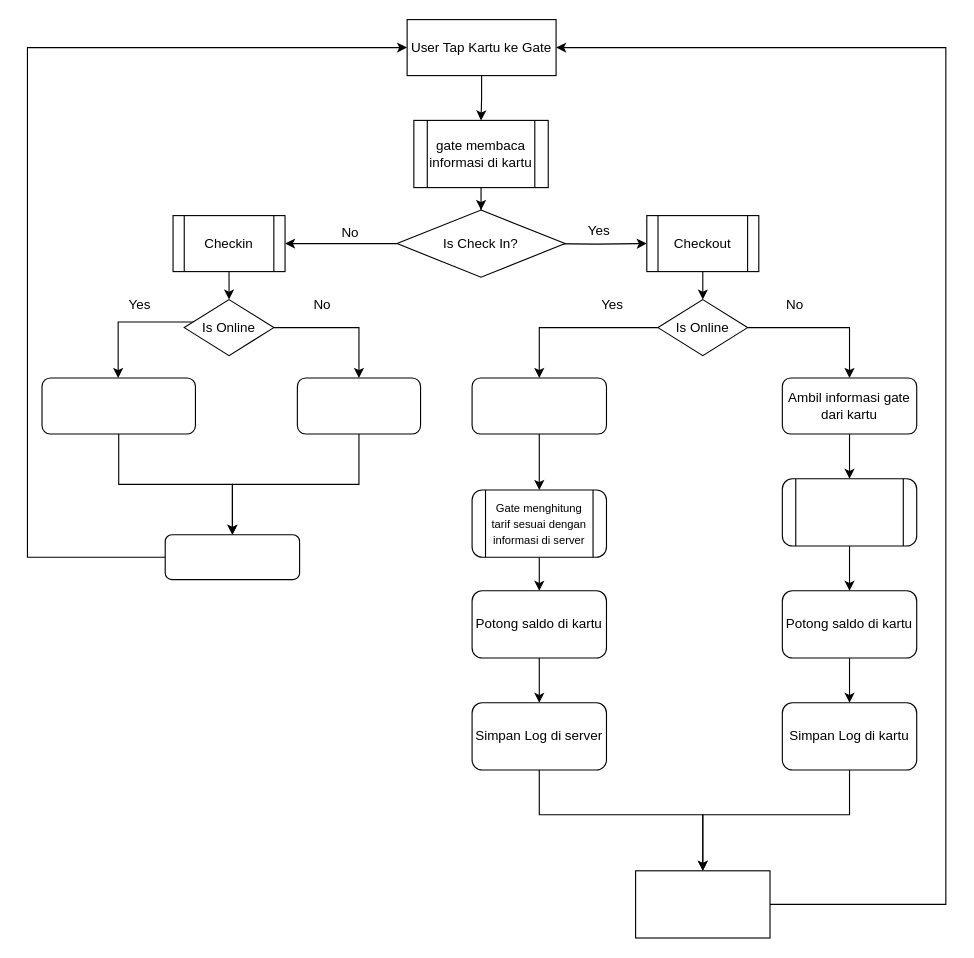
The diagram is 974 pixels wide and 958 high, and some of its shapes have lost their labels. Here are the shapes that lost their labels. From the top down, the centre of each, then its label:
the point at 118,405: Simpan ke server status checkin (info gate)
the point at 358,405: Simpan ke kartu checkin(info gate)
the point at 538,405: Ambil informasi gate dari server
the point at 849,512: Gate menghitung tarif sesuai dengan informasi kartu
the point at 232,557: Tunggu Checkout
the point at 702,904: Reset informasi pada kartu
